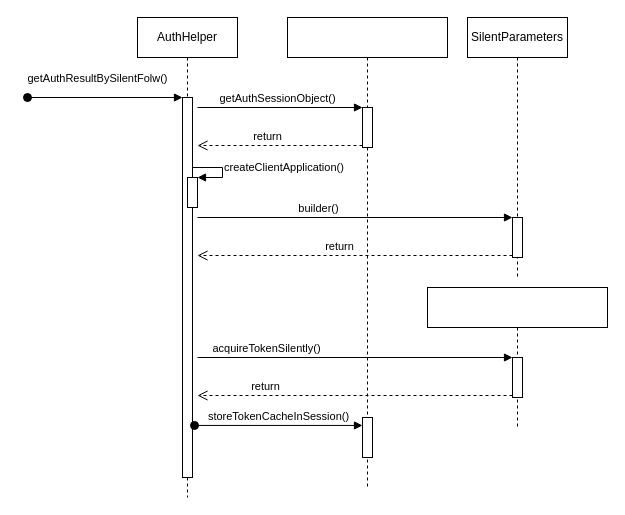
This 625x515 diagram has some shape labels left out. Each missing label, with the box of its shape:
AbstractClientApplicationBase: (426, 286, 608, 428)
SessionManagementHelper: (286, 16, 448, 488)
